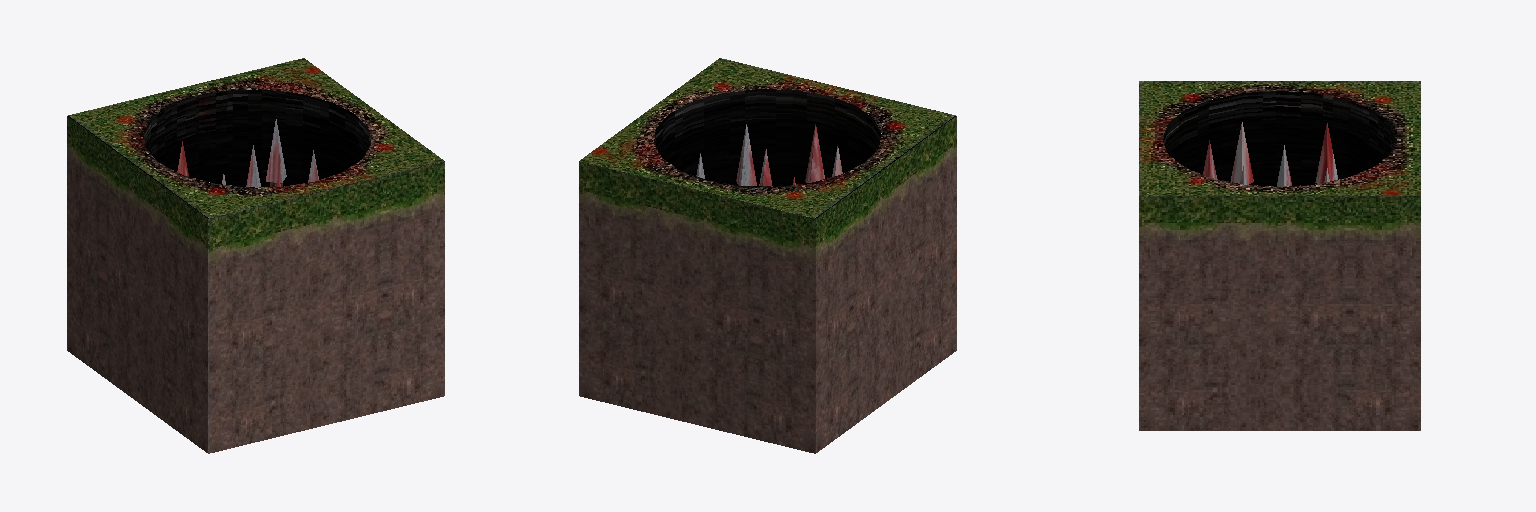
3 renders of one model, left to right at view 1: azimuth 30°, elevation 25°; view 2: azimuth 150°, elevation 25°; view 3: azimuth 270°, elevation 25°, orthographic.
Parts seen in each view (by area): view 1: armadilha_group armadilha_pasted__polySurface116 armadilha_polyS; view 2: armadilha_group armadilha_pasted__polySurface116 armadilha_polyS; view 3: armadilha_group armadilha_pasted__polySurface116 armadilha_polyS.
Boxes of the visible parts, x1,y1,x2,y2 form: armadilha_group armadilha_pasted__polySurface116 armadilha_polyS: [67, 58, 444, 453]; armadilha_group armadilha_pasted__polySurface116 armadilha_polyS: [579, 58, 956, 453]; armadilha_group armadilha_pasted__polySurface116 armadilha_polyS: [1139, 81, 1420, 430].
Bounding box in the file's own units: 9.35 × 8.85 × 9.63.
1 materials, 1 textured.